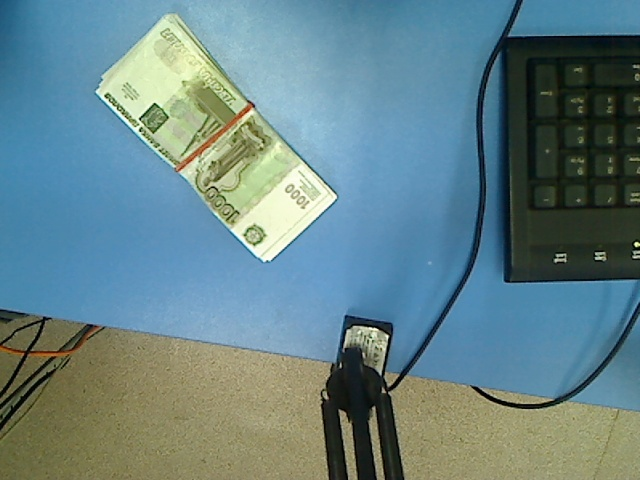banknotes: (93, 8, 341, 267)
